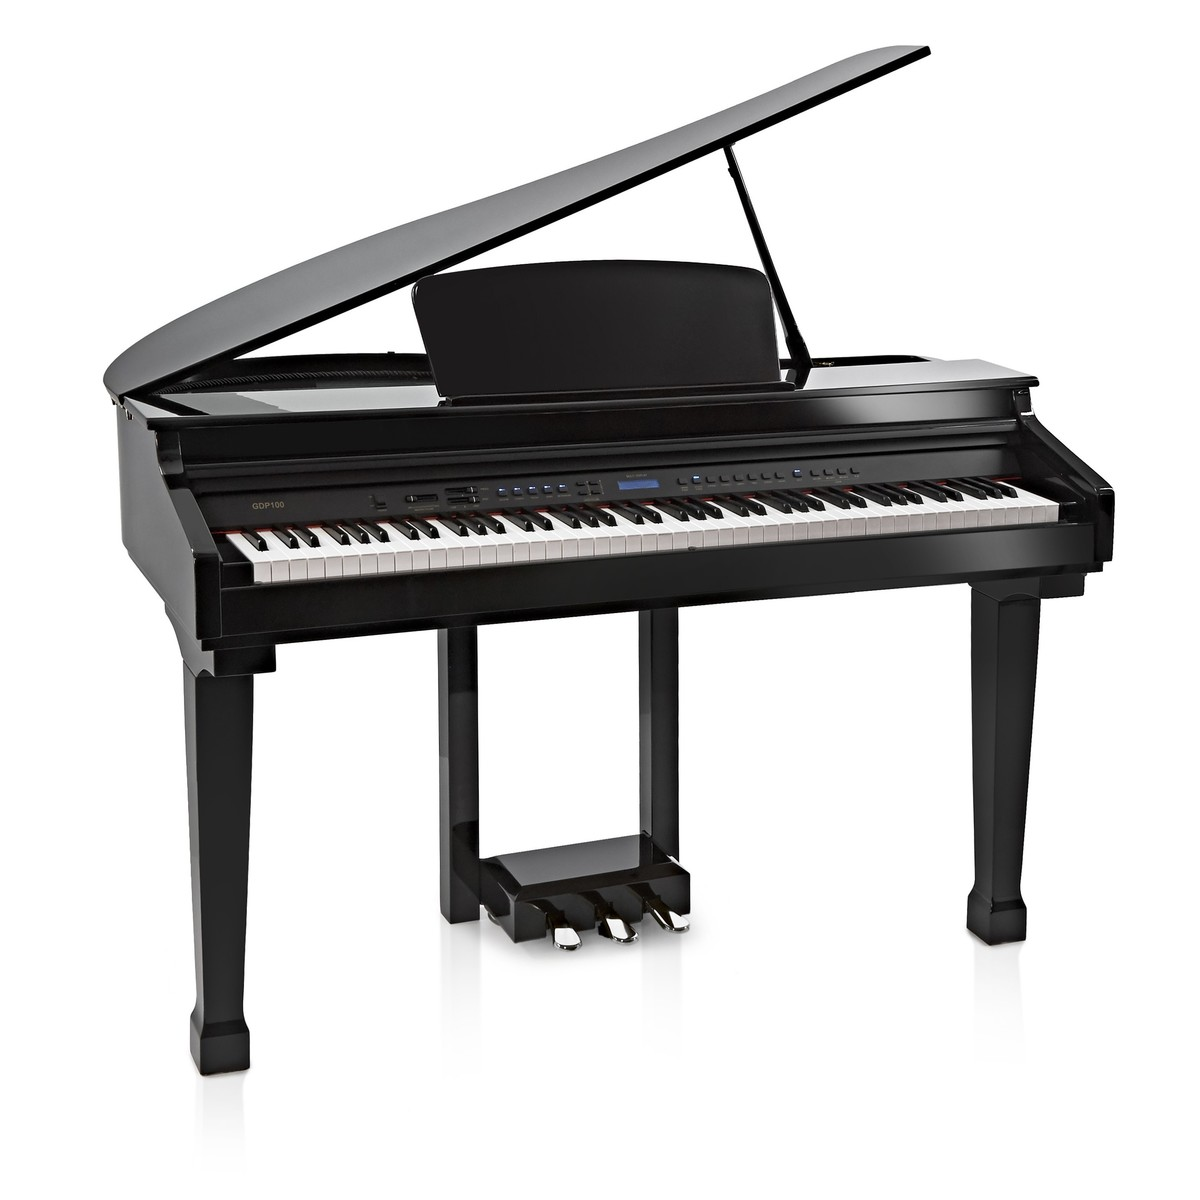GrandPiano: (100, 36, 1120, 960)
